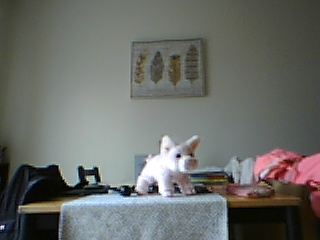piggy: (134, 133, 202, 199)
